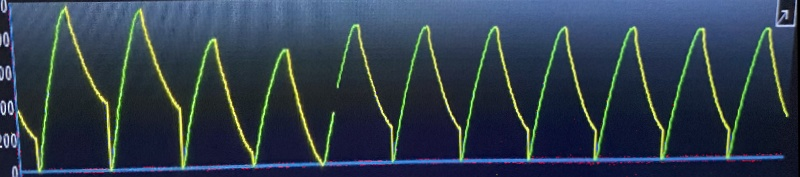leakage: (30, 8, 733, 172)
